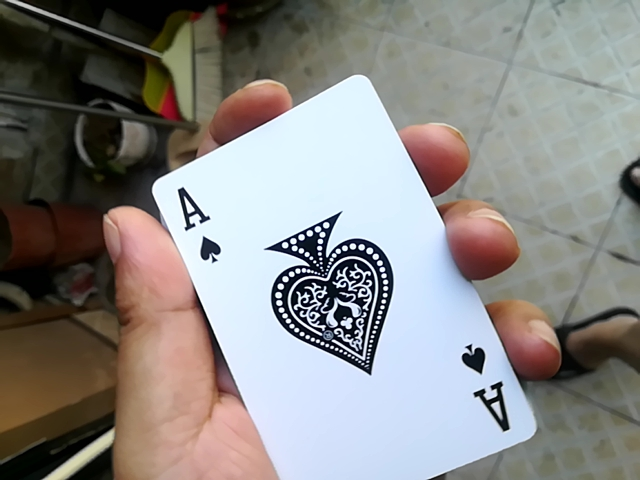ht a: (131, 56, 524, 479)
